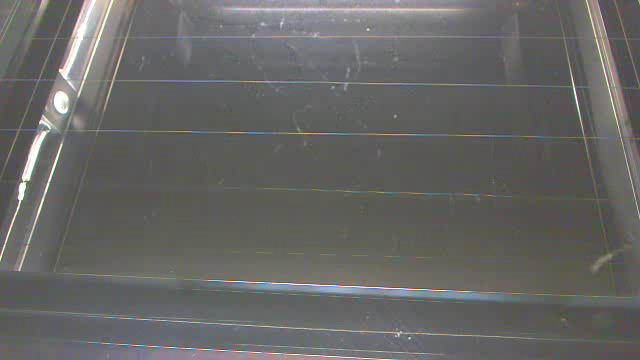alpha: (586, 240, 636, 279)
